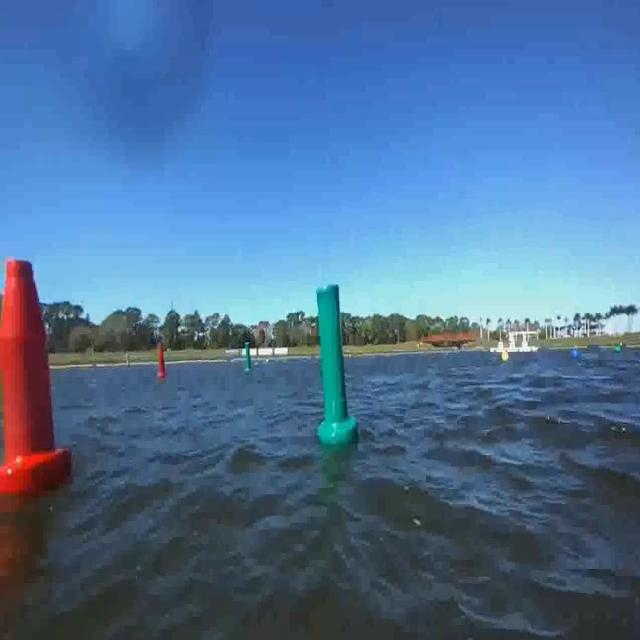blue-buoy: (570, 347, 580, 361)
green-column-buoy: (317, 280, 360, 444), (242, 342, 251, 373)
red-column-buoy: (0, 260, 71, 498), (158, 344, 169, 378)
yellow-buoy: (501, 350, 508, 364)
